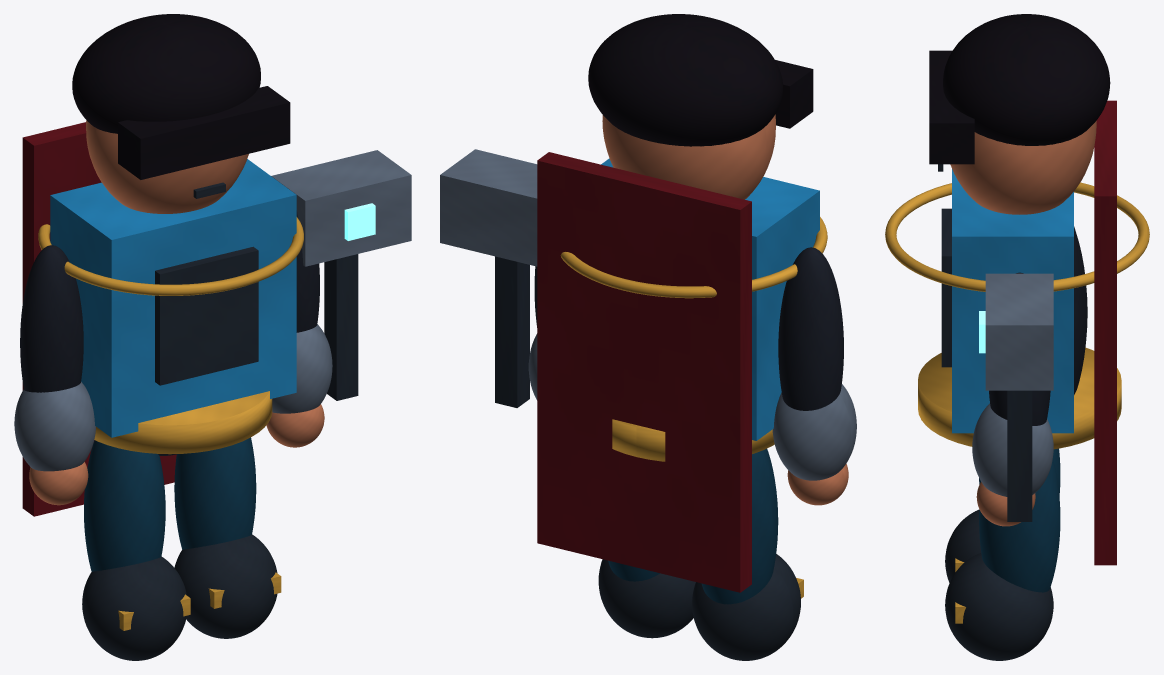
Rendered from Foundation.glb.
3 renders of one model, left to right at view 1: azimuth 30°, elevation 25°; view 2: azimuth 150°, elevation 25°; view 3: azimuth 270°, elevation 25°, orthographic. The views are drawn at different scales.
Parts seen in each view (by area): view 1: ChestPlate, Hair, ChestInset, HammerHead, HairFringe, Leg, Boot, Arm, Boot.001, Cape, Leg.001, Head (+9 smaller); view 2: Cape, Hair, ChestPlate, HammerHead, Arm, Head, Boot, Gauntlet, Boot.001, HammerHandle, Leg, ShoulderCrest (+4 smaller); view 3: Hair, ChestPlate, Cape, Head, HammerHead, Boot.001, Leg.001, WaistGuard, ShoulderCrest, Gauntlet.001, HairFringe, HammerHandle (+5 smaller).
Part boxes in pixels (x1=…): ChestPlate: x1=50, y1=159, x2=296, y2=437; Hair: x1=72, y1=14, x2=260, y2=133; ChestInset: x1=155, y1=246, x2=258, y2=385; HammerHead: x1=271, y1=150, x2=411, y2=266; HairFringe: x1=118, y1=86, x2=290, y2=179; Leg: x1=84, y1=440, x2=165, y2=571; Boot: x1=82, y1=556, x2=186, y2=660; Arm: x1=20, y1=245, x2=83, y2=392; Boot.001: x1=174, y1=534, x2=277, y2=638; Cape: x1=22, y1=122, x2=176, y2=516; Leg.001: x1=174, y1=437, x2=256, y2=549; Head: x1=86, y1=120, x2=248, y2=213; Cape: x1=537, y1=152, x2=751, y2=592; Hair: x1=588, y1=14, x2=782, y2=146; ChestPlate: x1=601, y1=158, x2=819, y2=440; HammerHead: x1=440, y1=149, x2=537, y2=266; Arm: x1=778, y1=247, x2=843, y2=410; Head: x1=602, y1=114, x2=775, y2=199; Boot: x1=692, y1=554, x2=800, y2=660; Gauntlet: x1=772, y1=384, x2=856, y2=480; Boot.001: x1=598, y1=559, x2=695, y2=638; HammerHandle: x1=495, y1=256, x2=529, y2=407; Leg: x1=701, y1=448, x2=778, y2=604; ShoulderCrest: x1=560, y1=217, x2=827, y2=298; Hair: x1=943, y1=14, x2=1110, y2=145; ChestPlate: x1=952, y1=169, x2=1073, y2=433; Cape: x1=1094, y1=100, x2=1116, y2=565; Head: x1=950, y1=121, x2=1096, y2=214; HammerHead: x1=985, y1=273, x2=1053, y2=390; Boot.001: x1=945, y1=553, x2=1053, y2=660; Leg.001: x1=979, y1=459, x2=1060, y2=592; WaistGuard: x1=918, y1=347, x2=1121, y2=449; ShoulderCrest: x1=885, y1=182, x2=1149, y2=291; Gauntlet.001: x1=972, y1=403, x2=1053, y2=496; HairFringe: x1=929, y1=50, x2=974, y2=164; HammerHandle: x1=1007, y1=390, x2=1032, y2=521.
Size of the model in its own units: 1.92 by 2.96 by 1.17.
Materials: 12 (9 with a texture image).
